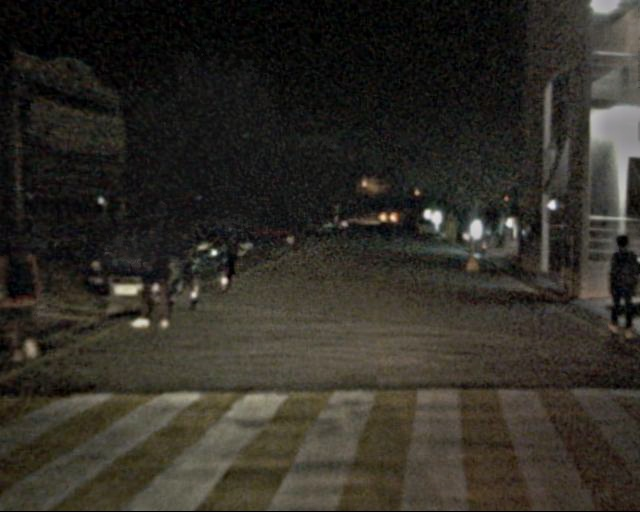person: (132, 220, 181, 331), (594, 236, 640, 339)
